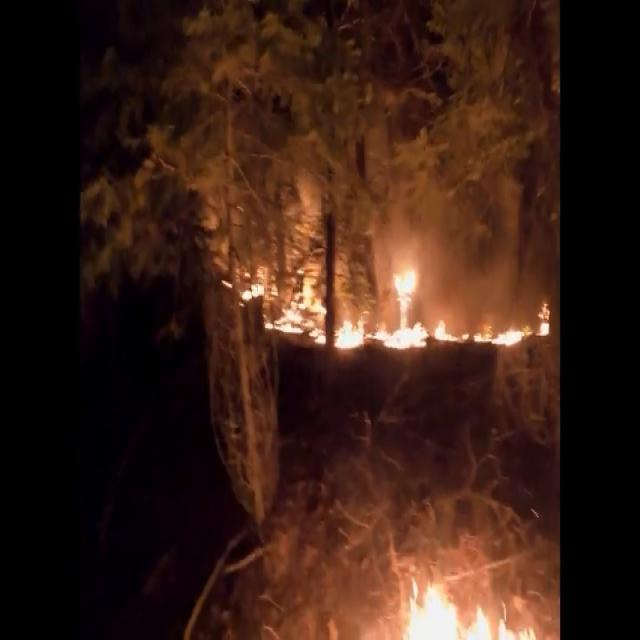Fire: (222, 186, 554, 372), (371, 530, 535, 640)
